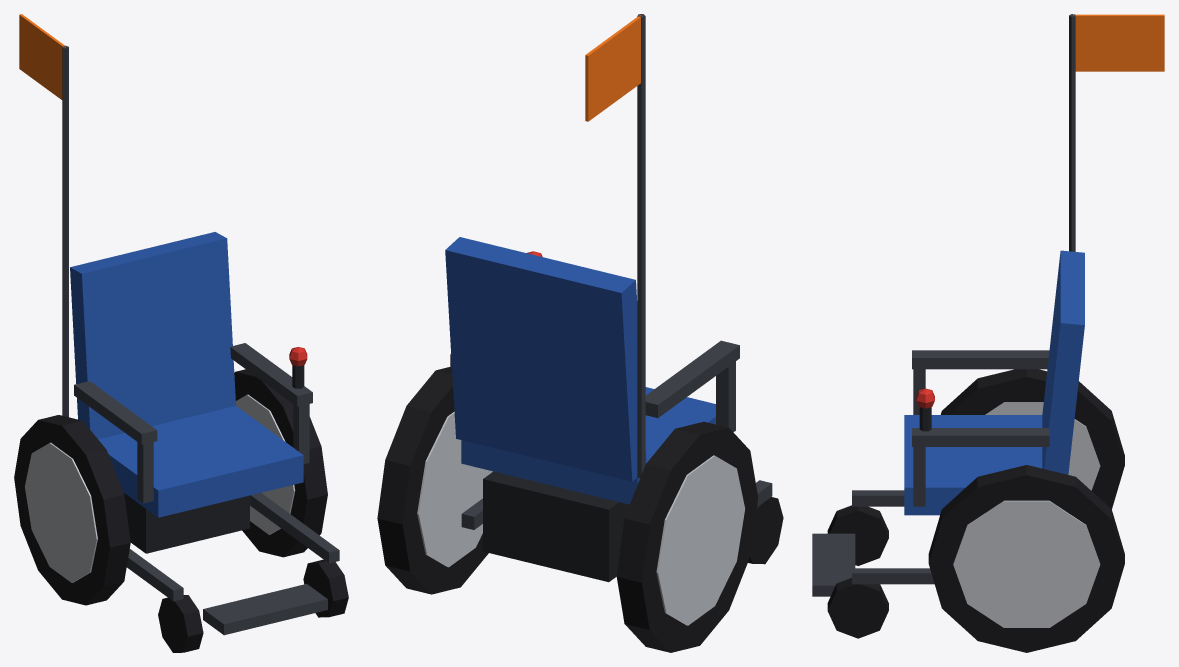
File: wheelchair.glb
3 views of the same model, side by side, from view 1: azimuth 30°, elevation 25°; view 2: azimuth 150°, elevation 25°; view 3: azimuth 270°, elevation 25° (orthographic). The views are drawn at different scales.
Parts seen in each view (by area): view 1: seat_chair_cushion, wheels_tire, frame_chair_frame, wheels_rim, frame_battery, flag_chair_frame, flag_chair_flag; view 2: seat_chair_cushion, wheels_tire, wheels_rim, frame_battery, frame_chair_frame, flag_chair_flag, flag_chair_frame; view 3: wheels_tire, wheels_rim, seat_chair_cushion, frame_chair_frame, flag_chair_flag, flag_chair_frame.
Boxes of the visible parts, box(x1,y1,x2,y2) form: seat_chair_cushion: box(70, 232, 303, 517); wheels_tire: box(14, 369, 348, 652); frame_chair_frame: box(74, 343, 339, 635); wheels_rim: box(24, 394, 295, 582); frame_battery: box(124, 493, 249, 553); flag_chair_frame: box(62, 45, 68, 417); flag_chair_flag: box(19, 14, 65, 99); seat_chair_cushion: box(445, 237, 715, 504); wheels_tire: box(377, 367, 783, 652); wheels_rim: box(417, 411, 745, 625); frame_battery: box(483, 471, 629, 582); frame_chair_frame: box(450, 340, 772, 529); flag_chair_flag: box(585, 15, 641, 121); flag_chair_frame: box(637, 14, 645, 478); wheels_tire: box(827, 369, 1124, 652); wheels_rim: box(953, 402, 1100, 627); seat_chair_cushion: box(904, 250, 1084, 515); frame_chair_frame: box(812, 350, 1049, 596); flag_chair_flag: box(1073, 14, 1164, 71); flag_chair_frame: box(1069, 14, 1075, 251).
Bounding box in the file's own units: 0.85 × 1.95 × 1.15.
